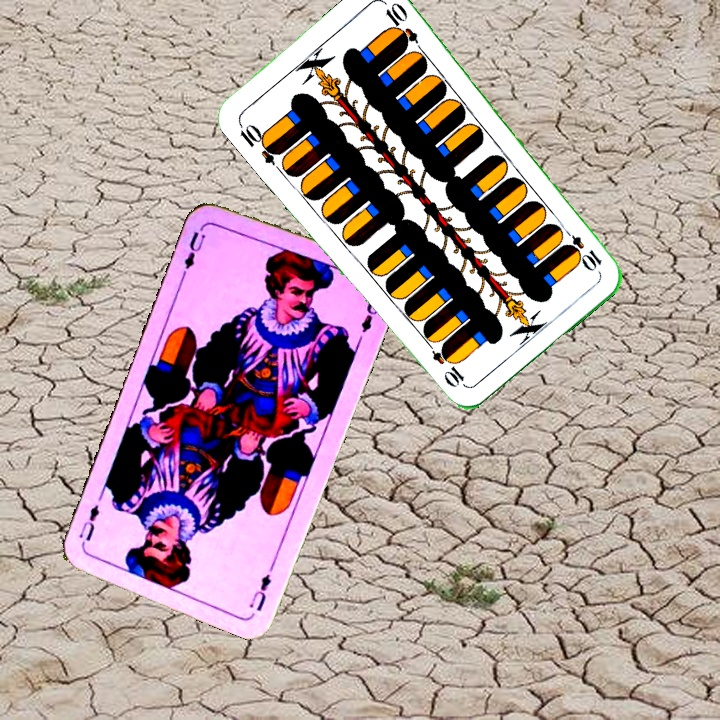E10: (234, 117, 284, 167), (557, 224, 605, 273)
EU: (179, 227, 208, 277), (245, 569, 274, 614)
